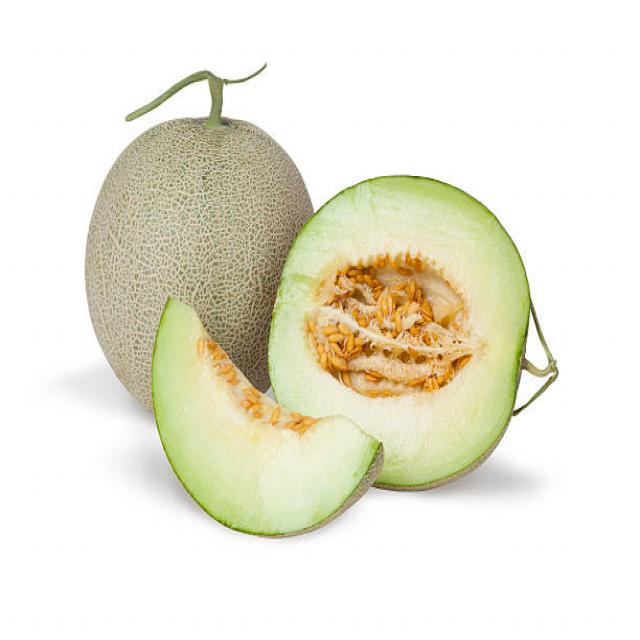Melon: (300, 172, 541, 420), (78, 86, 276, 320), (154, 350, 383, 546)
